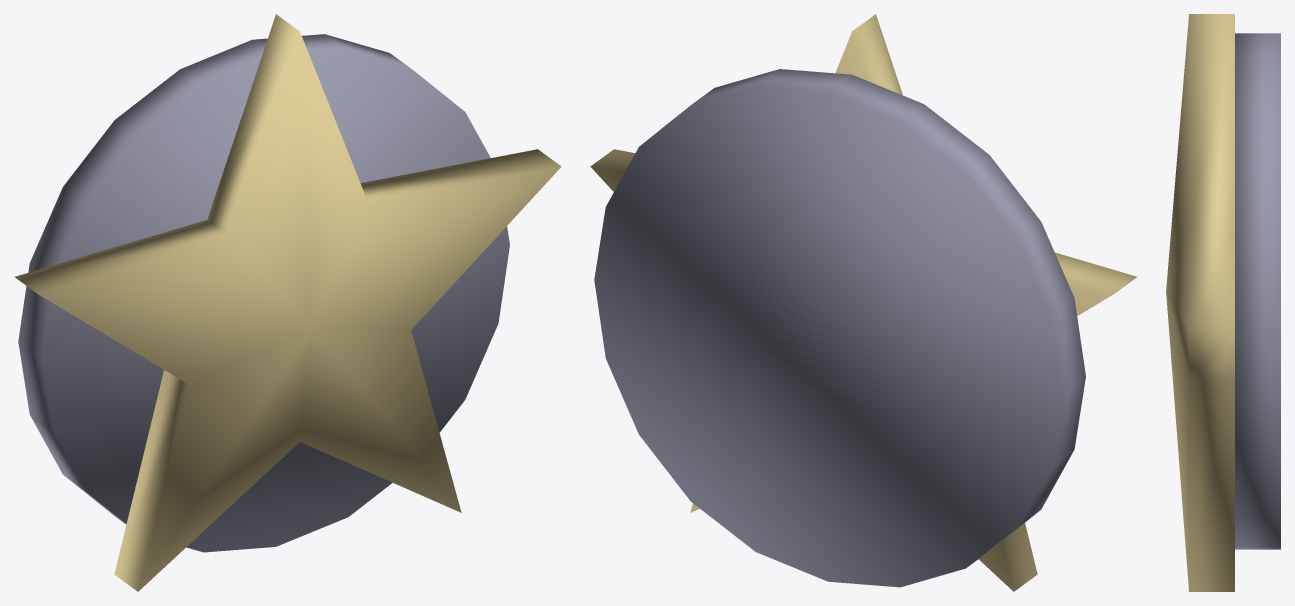
File: columbia.glb
The picture shows the model from 3 angles, left to right: view 1: azimuth 30°, elevation 25°; view 2: azimuth 150°, elevation 25°; view 3: azimuth 270°, elevation 25°; orthographic projection. The views are drawn at different scales.
Parts seen in each view (by area): view 1: columbia; view 2: columbia; view 3: columbia.
Part boxes in pixels (left/top/right/bottom): columbia: left=15, top=14, right=561, bottom=591; columbia: left=590, top=14, right=1136, bottom=591; columbia: left=1166, top=14, right=1280, bottom=591.
Bounding box in the file's own units: 0.0761 × 0.074 × 0.015.
